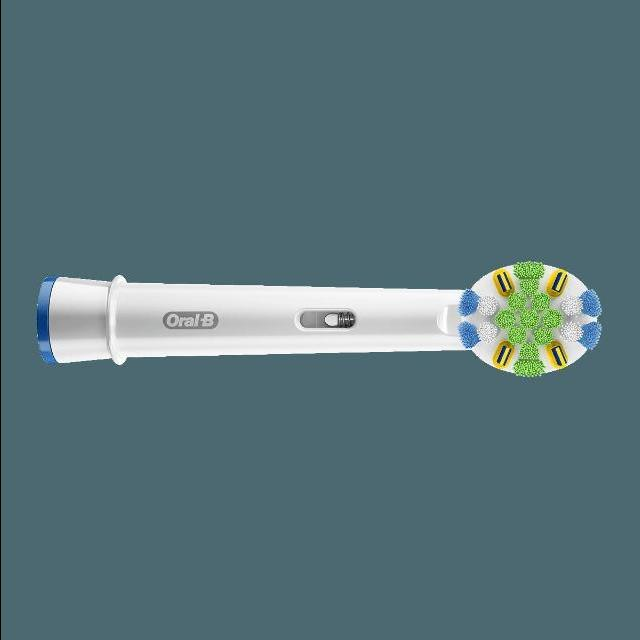toothbrush: (0, 234, 624, 403)
